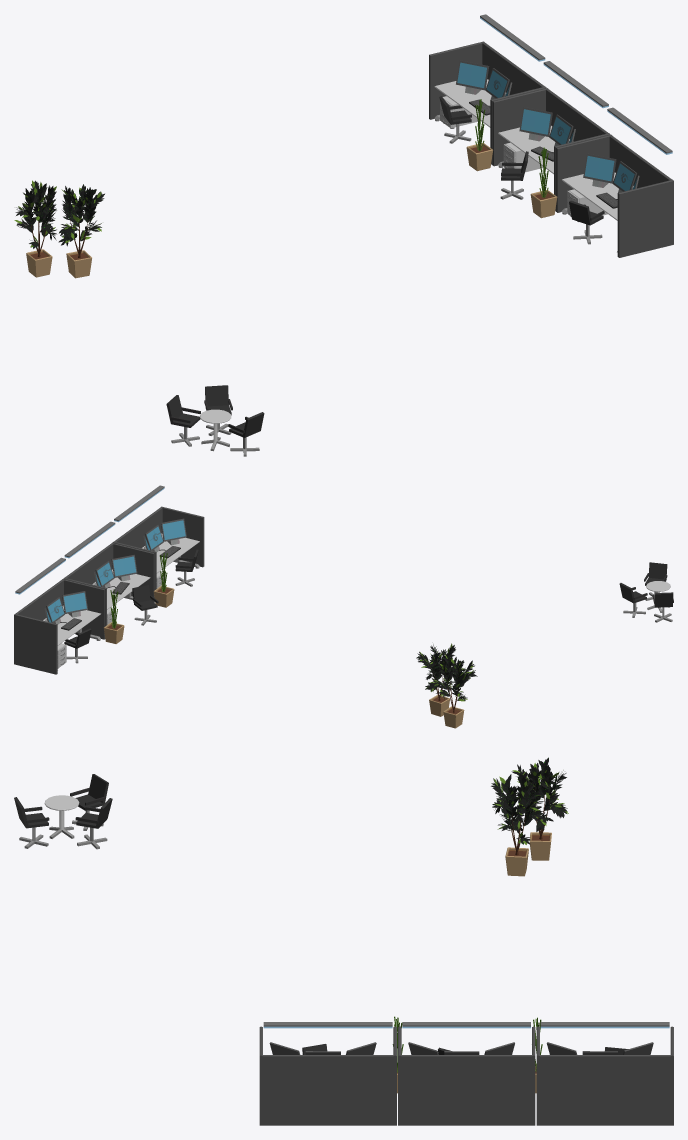
The picture shows the model from 3 angles, top to bottom: view 1: azimuth 30°, elevation 25°; view 2: azimuth 150°, elevation 25°; view 3: azimuth 270°, elevation 25°; orthographic projection. The views are drawn at different scales.
Parts seen in each view (by area): view 1: d-roomcomp-l-server; view 2: d-roomcomp-l-server; view 3: d-roomcomp-l-server.
Boxes of the visible parts, box(x1,y1,x2,y2) form: d-roomcomp-l-server: box(14, 14, 673, 456); d-roomcomp-l-server: box(14, 485, 673, 728); d-roomcomp-l-server: box(14, 757, 673, 1125).
Bounding box in the file's own units: 21.35 × 3.23 × 19.21.
Materials: 3 (3 with a texture image).
